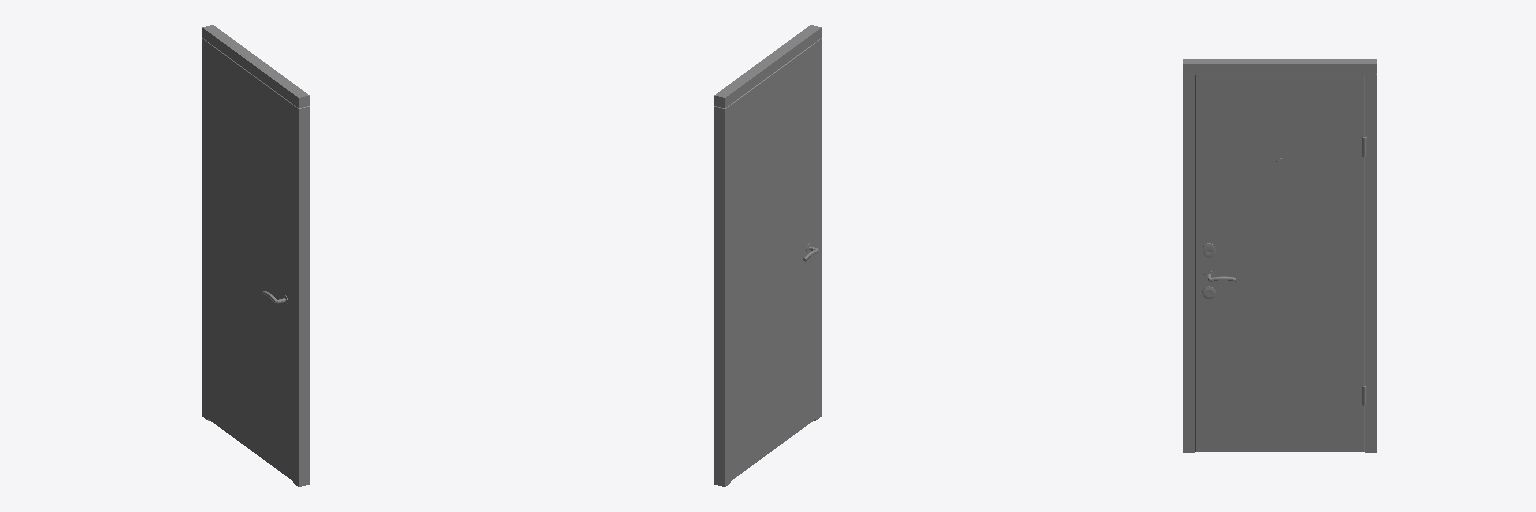
The model's file is WarpDoor.obj.
3 renders of one model, left to right at view 1: azimuth 30°, elevation 25°; view 2: azimuth 150°, elevation 25°; view 3: azimuth 270°, elevation 25°, orthographic.
Parts seen in each view (by area): view 1: 01_low, 03_low; view 2: 01_low, 03_low; view 3: 01_low, 03_low.
Part boxes in pixels (x1,y1,x2,y2): 01_low: (208, 43, 292, 480); 03_low: (202, 25, 309, 486); 01_low: (731, 43, 818, 480); 03_low: (714, 25, 821, 486); 01_low: (1195, 75, 1366, 451); 03_low: (1183, 59, 1376, 452).
Bounding box in the file's own units: 0.1716 × 2 × 0.9.